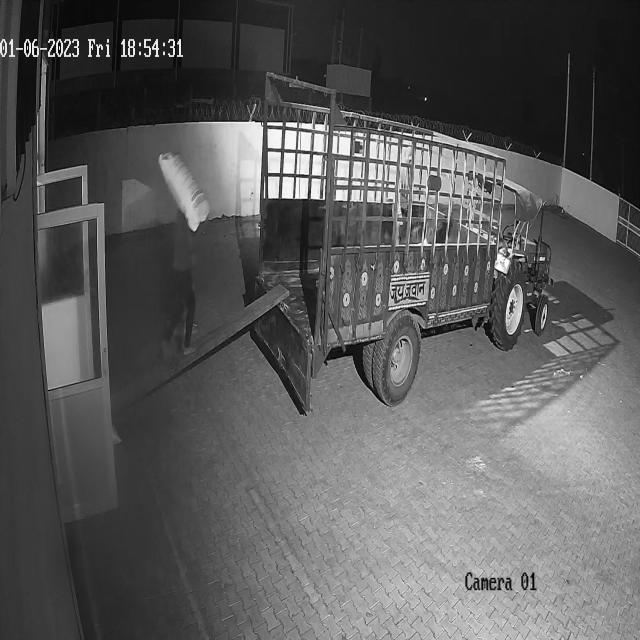sack: (158, 150, 210, 232)
